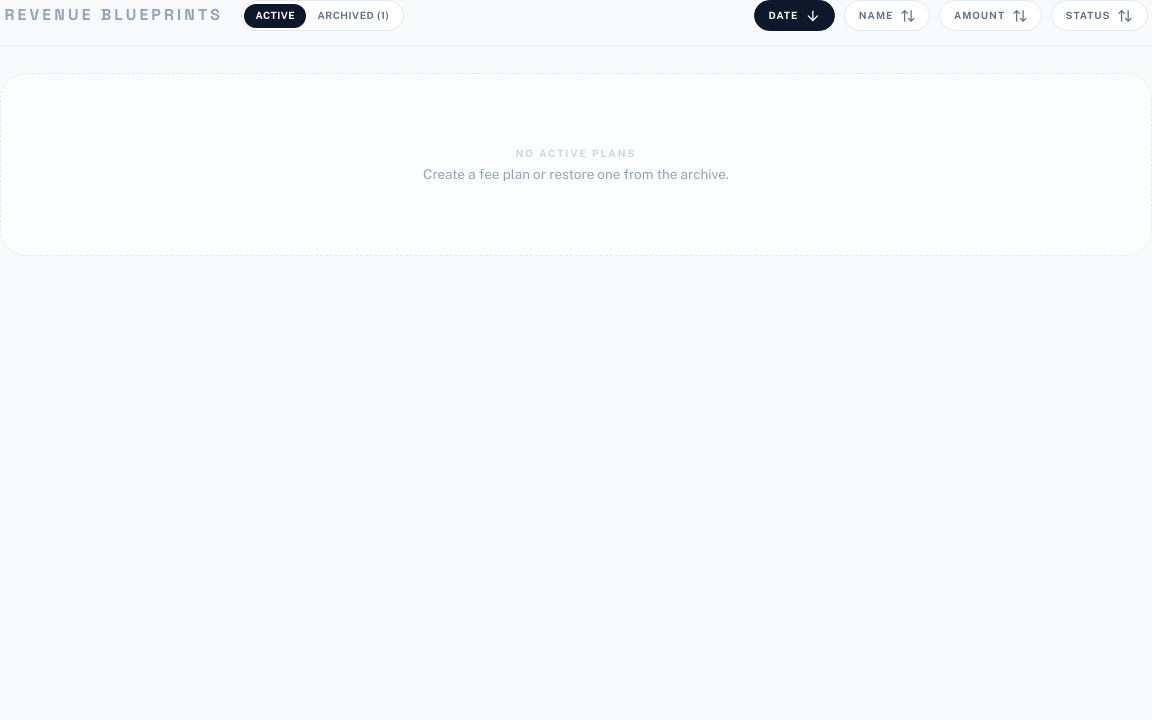
Scenario: FeePlanList lifecycle controls › keeps archived plans discoverable and restorable without an invoice action
expect the text "Old fees" is not shown: met
Click the button "Archived (1)" at [354, 16], box [306,4,401,28]
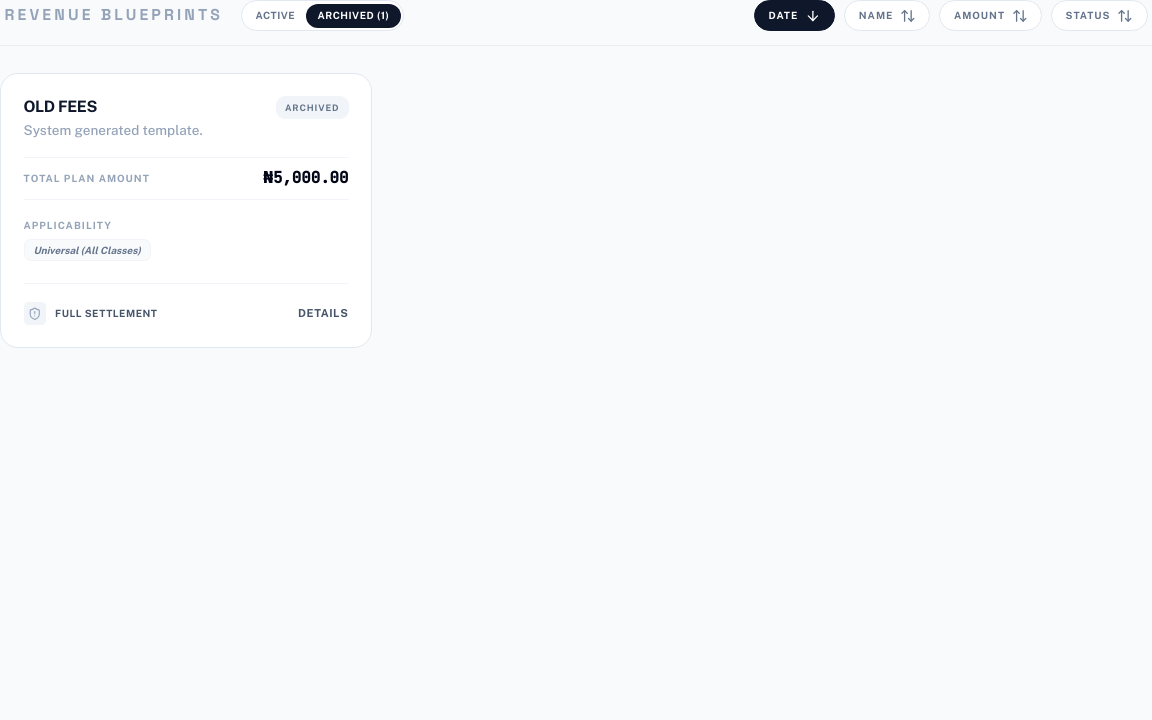
expect the heading "Old fees" is shown: met, box [24,97,97,116]
Click the button "Details" at [323, 314], box [298,305,348,322]
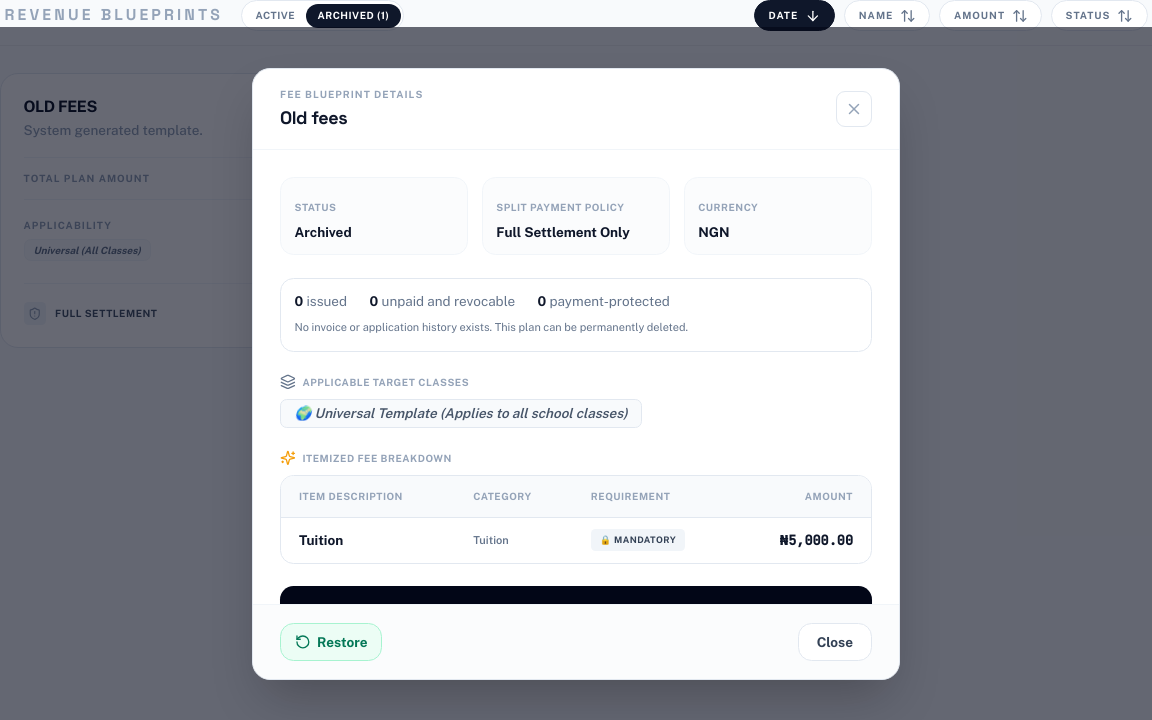
expect the button "Restore" is shown: met, box [280,622,382,660]
